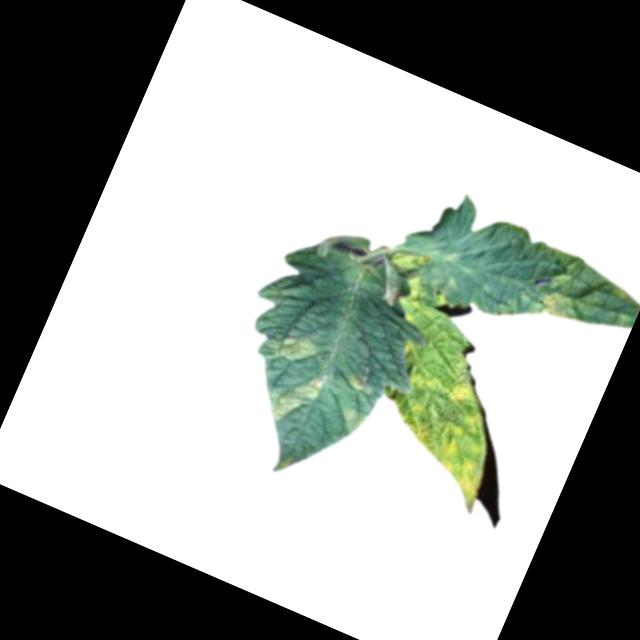Leaf_Mold: (353, 343, 522, 514), (259, 355, 333, 437), (256, 323, 322, 378), (535, 285, 587, 329), (338, 406, 366, 435), (344, 366, 373, 393)
